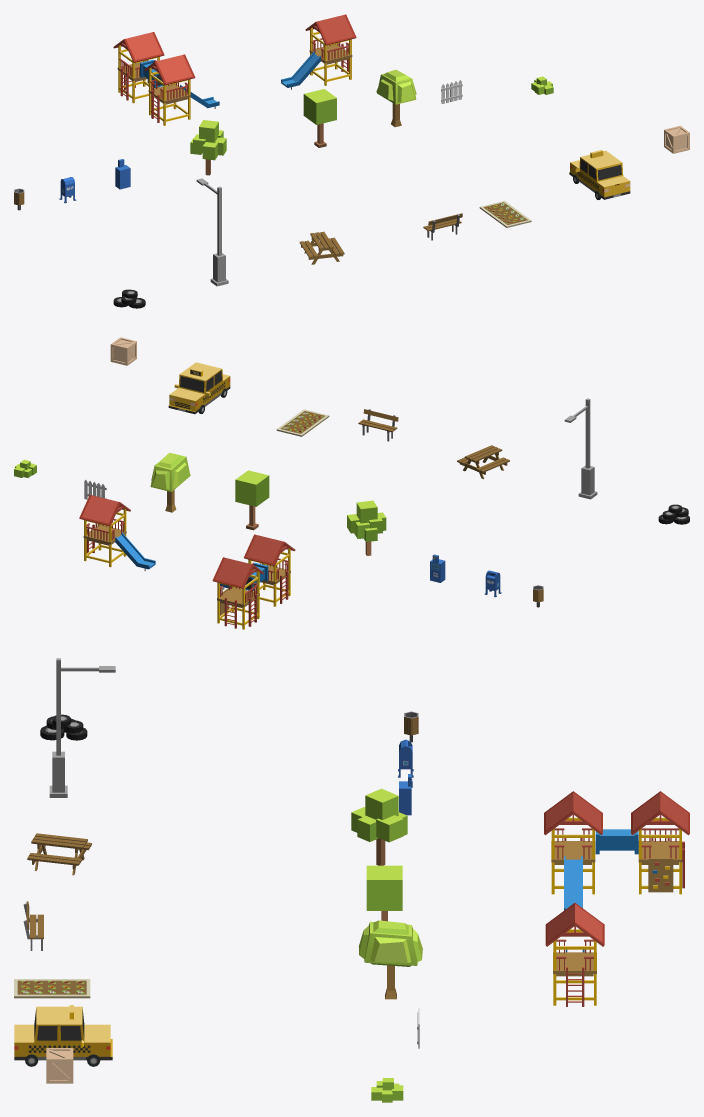
File: House_subset.FBX
3 views of the same model, one above another, from view 1: azimuth 30°, elevation 25°; view 2: azimuth 150°, elevation 25°; view 3: azimuth 270°, elevation 25° (orthographic). The views are drawn at different scales.
Parts seen in each view (by area): view 1: Playground_Large, Playground_Small, taxi_mesh, Prop_Tree_01 (6), tree_small_mesh (3), tree_medium_mesh (3), lamp_mesh (38), Park_bench_01, ParkPlanter_Square (11), SM_Prop_Crate_02, bench_Small; view 2: Playground_Large, Playground_Small, taxi_mesh, Prop_Tree_01 (6), tree_medium_mesh (3), tree_small_mesh (3), lamp_mesh (38), Park_bench_01, ParkPlanter_Square (11), SM_Prop_Crate_02, bench_Small, Prop_TirePile; view 3: Playground_Large, taxi_mesh, Playground_Small, Prop_Tree_01 (6), tree_medium_mesh (3), tree_small_mesh (3), ParkPlanter_Square (11), lamp_mesh (38), Park_bench_01, SM_Prop_Crate_02, Prop_TirePile.
Part boxes in pixels (left/top/right/bottom): Playground_Large: left=113, top=32, right=219, bottom=125; Playground_Small: left=281, top=14, right=356, bottom=89; taxi_mesh: left=569, top=150, right=630, bottom=199; Prop_Tree_01 (6): left=376, top=69, right=416, bottom=127; tree_small_mesh (3): left=303, top=89, right=336, bottom=147; tree_medium_mesh (3): left=190, top=120, right=226, bottom=175; lamp_mesh (38): left=196, top=178, right=228, bottom=286; Park_bench_01: left=299, top=231, right=344, bottom=264; ParkPlanter_Square (11): left=479, top=201, right=531, bottom=227; SM_Prop_Crate_02: left=664, top=125, right=689, bottom=153; bench_Small: left=423, top=213, right=462, bottom=240; Playground_Large: left=212, top=534, right=295, bottom=629; Playground_Small: left=79, top=495, right=155, bottom=570; taxi_mesh: left=168, top=362, right=230, bottom=414; Prop_Tree_01 (6): left=150, top=452, right=190, bottom=512; tree_medium_mesh (3): left=347, top=500, right=386, bottom=555; tree_small_mesh (3): left=235, top=470, right=269, bottom=530; lamp_mesh (38): left=564, top=398, right=597, bottom=499; Park_bench_01: left=457, top=445, right=509, bottom=479; ParkPlanter_Square (11): left=276, top=409, right=329, bottom=436; SM_Prop_Crate_02: left=110, top=337, right=136, bottom=365; bench_Small: left=358, top=409, right=398, bottom=441; Prop_TirePile: left=658, top=504, right=689, bottom=524; Playground_Large: left=544, top=791, right=689, bottom=910; taxi_mesh: left=14, top=1005, right=112, bottom=1066; Playground_Small: left=545, top=903, right=604, bottom=1006; Prop_Tree_01 (6): left=358, top=920, right=422, bottom=999; tree_medium_mesh (3): left=351, top=788, right=407, bottom=865; tree_small_mesh (3): left=366, top=865, right=402, bottom=921; ParkPlanter_Square (11): left=14, top=979, right=90, bottom=998; lamp_mesh (38): left=49, top=658, right=115, bottom=797; Park_bench_01: left=27, top=833, right=91, bottom=875; SM_Prop_Crate_02: left=46, top=1048, right=73, bottom=1083; Prop_TirePile: left=40, top=714, right=87, bottom=740.
Size of the model in its own units: 53475 by 8584 by 38975.
Materials: 8 (8 with a texture image).
